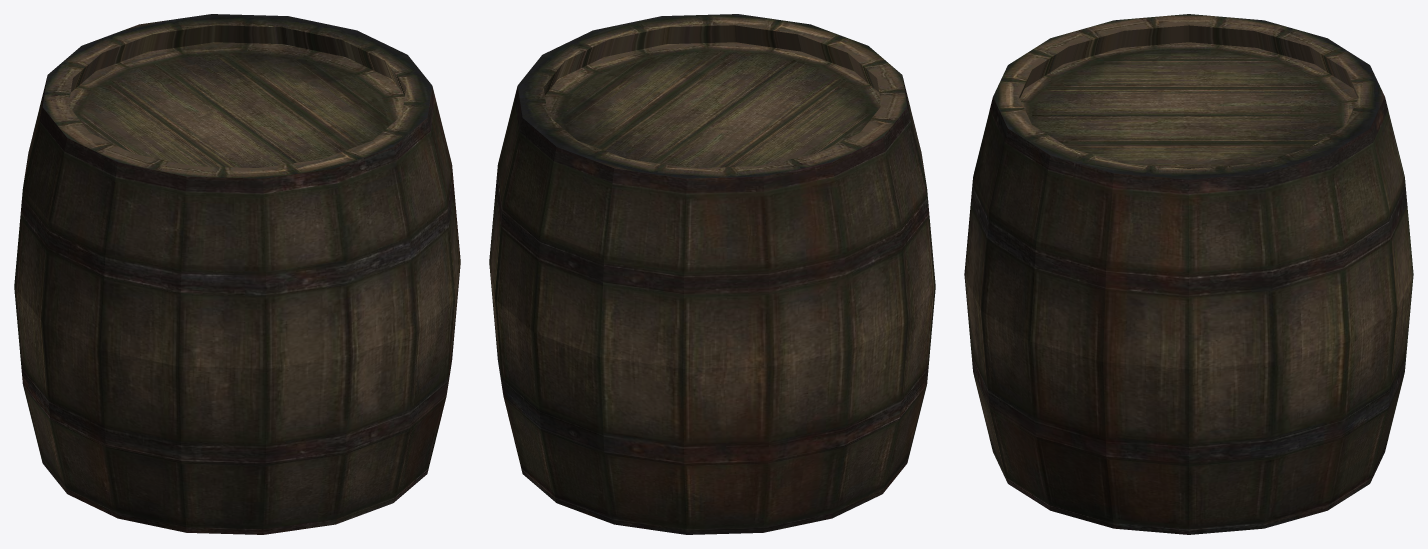
The model's file is barrel_v1.fbx.
3 renders of one model, left to right at view 1: azimuth 30°, elevation 25°; view 2: azimuth 150°, elevation 25°; view 3: azimuth 270°, elevation 25°, orthographic.
Parts seen in each view (by area): view 1: Cylinder; view 2: Cylinder; view 3: Cylinder.
Boxes of the visible parts, left/top/right/bottom form: Cylinder: left=14, top=14, right=460, bottom=534; Cylinder: left=489, top=14, right=935, bottom=534; Cylinder: left=964, top=14, right=1413, bottom=534.
Bounding box in the file's own units: 258 × 225 × 258.
Materials: 1 (1 with a texture image).
